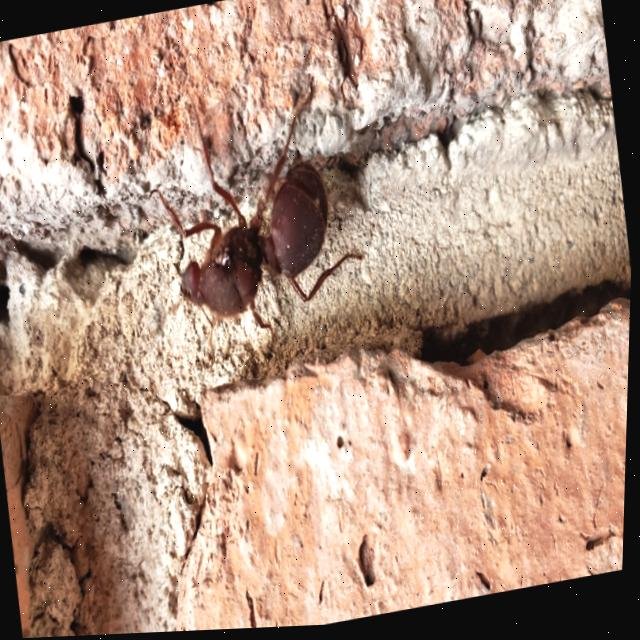Alive-Female-Dealate: (141, 73, 378, 339)
